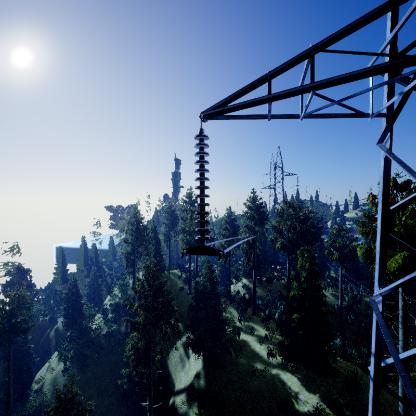insulator: (192, 133, 212, 245)
